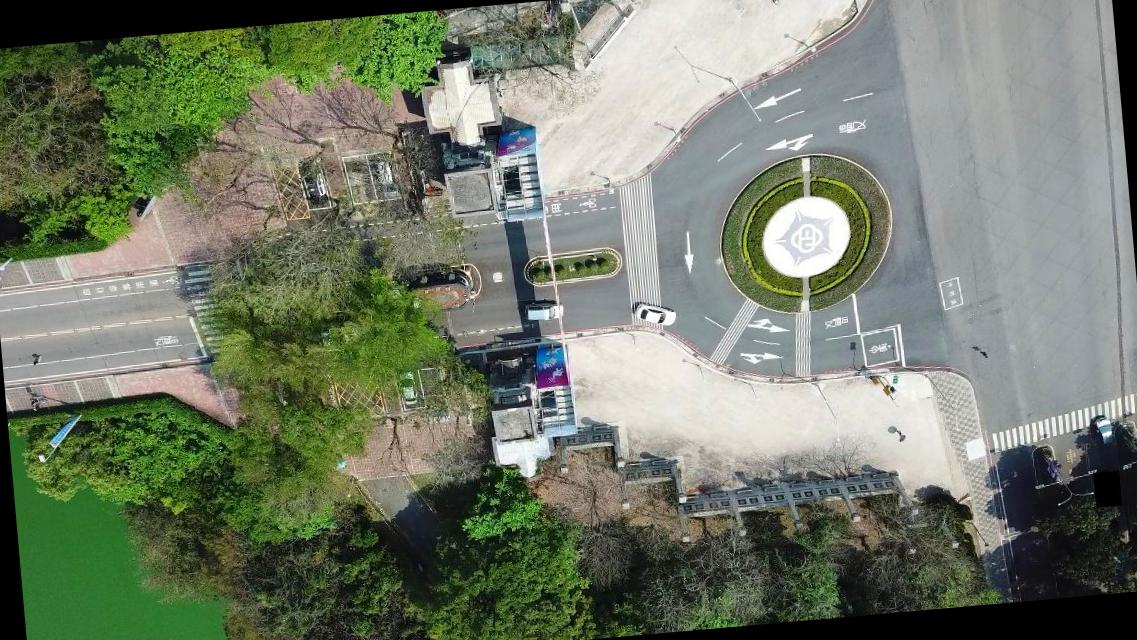vehicle: (298, 160, 328, 208), (373, 153, 400, 200), (633, 301, 676, 328), (522, 300, 564, 322), (397, 367, 420, 406), (1092, 414, 1116, 451)
